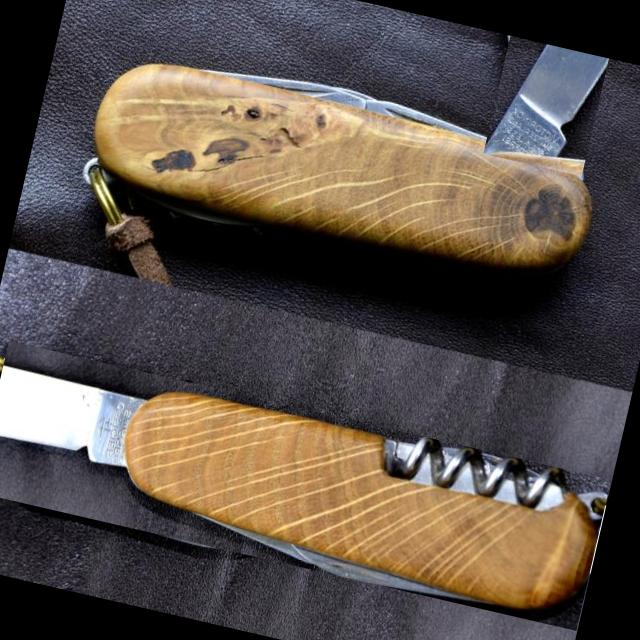Knife: (0, 367, 597, 609), (94, 64, 591, 269), (483, 45, 608, 156)
